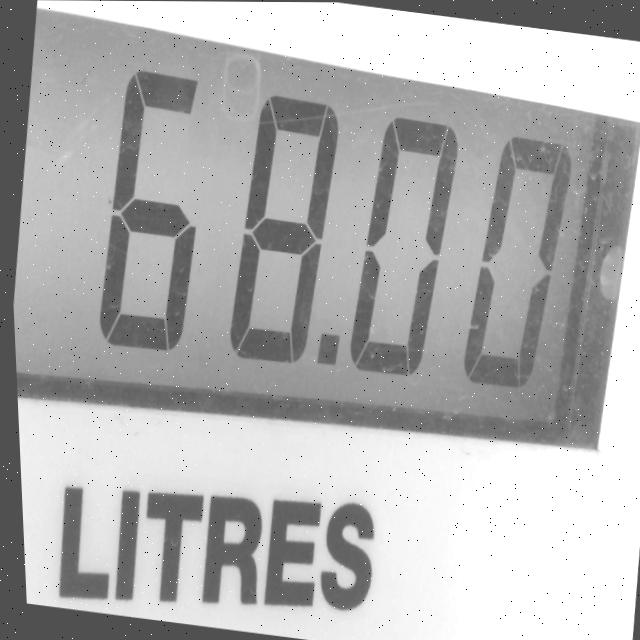.: (302, 309, 351, 396)
0: (440, 103, 592, 418), (330, 88, 482, 389)
6: (65, 51, 230, 371)
8: (206, 77, 356, 389)
